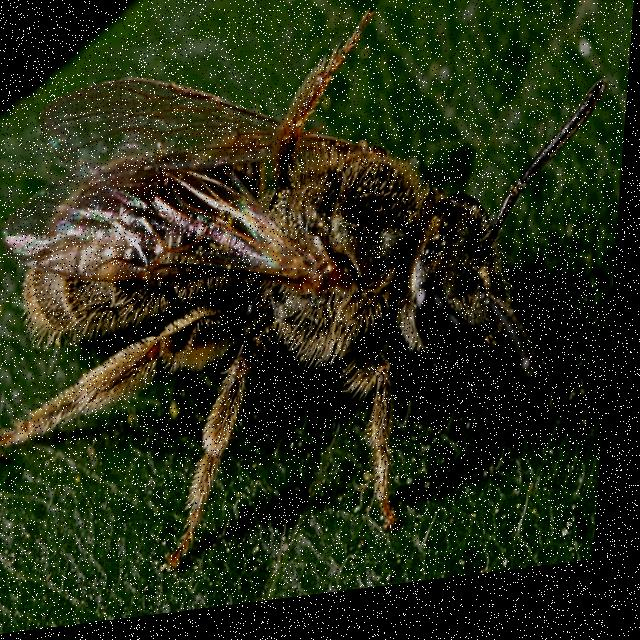Lasioglossum: (0, 0, 580, 601)
